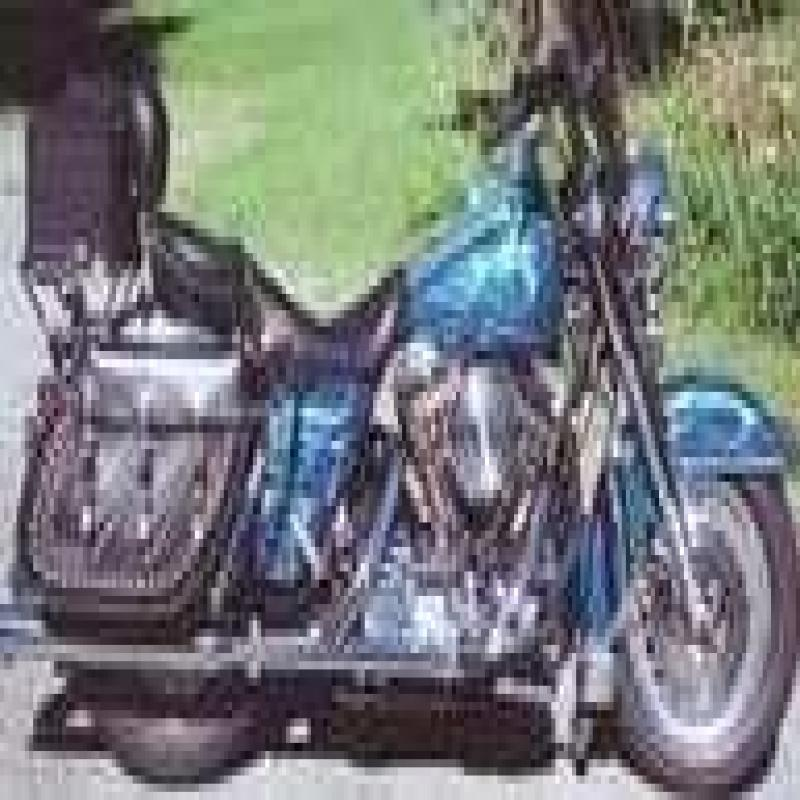bike: (4, 57, 800, 800)
